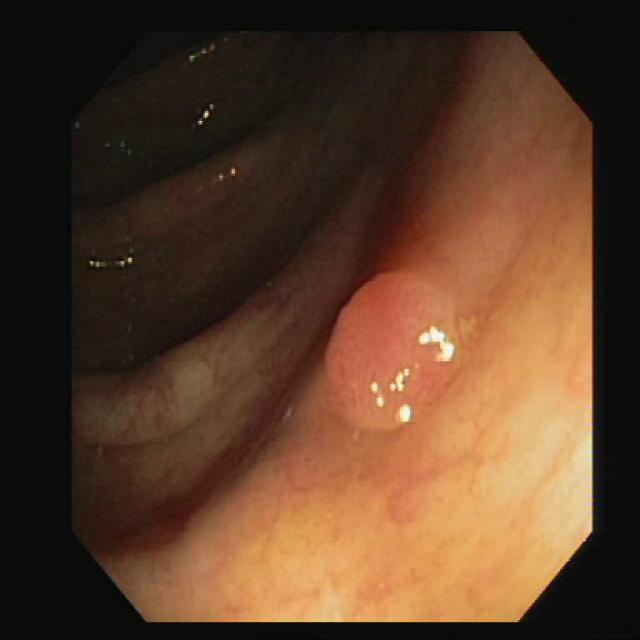tumor: (325, 273, 457, 427)
